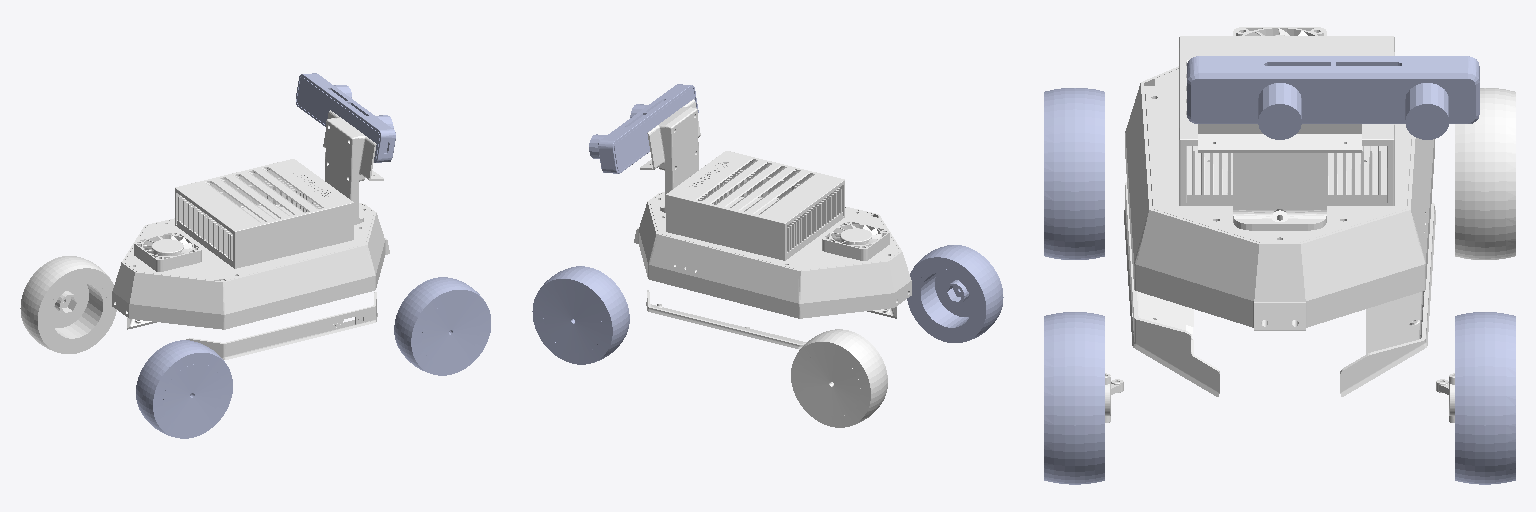
URDF robot description (description):
<?xml version="1.0" encoding="utf-8"?>
<!-- This URDF was automatically created by SolidWorks to URDF Exporter! Originally created by [author] ([email redacted]) 
     Commit Version: 1.6.0-4-g7f85cfe  Build Version: 1.6.7995.38578
     For more information, please see http://wiki.ros.org/sw_urdf_exporter -->
<robot
  name="description">
  <link
    name="base_link">
    <inertial>
      <origin
        xyz="0.012686 0.00022604 0.057416"
        rpy="0 0 0" />
      <mass
        value="2.587" />
      <inertia
        ixx="0.00035704"
        ixy="-4.5008E-07"
        ixz="-8.2245E-06"
        iyy="0.00081118"
        iyz="-1.0048E-06"
        izz="0.0010817" />
    </inertial>
    <visual>
      <origin
        xyz="0 0 0"
        rpy="0 0 0" />
      <geometry>
        <mesh
          filename="package://description/meshes/base_link.STL" />
      </geometry>
      <material
        name="">
        <color
          rgba="1 1 1 1" />
      </material>
    </visual>
    <collision>
      <origin
        xyz="0 0 0"
        rpy="0 0 0" />
      <geometry>
        <mesh
          filename="package://description/meshes/base_link.STL" />
      </geometry>
    </collision>
  </link>
  <link
    name="camera">
    <inertial>
      <origin
        xyz="0.0096454 -0.024245 7.5091E-06"
        rpy="0 0 0" />
      <mass
        value="0.0629" />
      <inertia
        ixx="7.2944E-05"
        ixy="9.8132E-07"
        ixz="9.1261E-10"
        iyy="5.5471E-06"
        iyz="-6.0108E-10"
        izz="7.2837E-05" />
    </inertial>
    <visual>
      <origin
        xyz="0 0 0"
        rpy="0 0 0" />
      <geometry>
        <mesh
          filename="package://description/meshes/camera.STL" />
      </geometry>
      <material
        name="">
        <color
          rgba="0.79216 0.81961 0.93333 1" />
      </material>
    </visual>
    <collision>
      <origin
        xyz="0 0 0"
        rpy="0 0 0" />
      <geometry>
        <mesh
          filename="package://description/meshes/camera.STL" />
      </geometry>
    </collision>
  </link>
  <joint
    name="camera"
    type="fixed">
    <origin
      xyz="0.08371 0.02275 0.12325"
      rpy="0 0.17453 0" />
    <parent
      link="base_link" />
    <child
      link="camera" />
    <axis
      xyz="0 0 0" />
  </joint>
  <link
    name="steering_f_r">
    <inertial>
      <origin
        xyz="-0.0026667 -0.0012862 1.2842E-08"
        rpy="0 0 0" />
      <mass
        value="0.004" />
      <inertia
        ixx="3.0117E-08"
        ixy="1.0965E-08"
        ixz="2.5868E-13"
        iyy="5.6537E-08"
        iyz="1.4459E-14"
        izz="4.808E-08" />
    </inertial>
    <visual>
      <origin
        xyz="0 0 0"
        rpy="0 0 0" />
      <geometry>
        <mesh
          filename="package://description/meshes/steering_f_r.STL" />
      </geometry>
      <material
        name="">
        <color
          rgba="1 1 1 1" />
      </material>
    </visual>
    <collision>
      <origin
        xyz="0 0 0"
        rpy="0 0 0" />
      <geometry>
        <mesh
          filename="package://description/meshes/steering_f_r.STL" />
      </geometry>
    </collision>
  </link>
  <joint
    name="j_steering_f_r"
    type="revolute">
    <origin
      xyz="0.1135 -0.07475 0"
      rpy="0 -0.087266 0" />
    <parent
      link="base_link" />
    <child
      link="steering_f_r" />
    <axis
      xyz="0 0 -1" />
    <limit
      lower="-1"
      upper="1"
      effort="0"
      velocity="0" />
  </joint>
  <link
    name="tire_f_r">
    <inertial>
      <origin
        xyz="0 -0.013779 1.3878E-17"
        rpy="0 0 0" />
      <mass
        value="0.042" />
      <inertia
        ixx="4.0273E-05"
        ixy="-3.471E-21"
        ixz="1.0299E-24"
        iyy="7.1503E-05"
        iyz="-9.6922E-25"
        izz="4.0273E-05" />
    </inertial>
    <visual>
      <origin
        xyz="0 0 0"
        rpy="0 0 0" />
      <geometry>
        <mesh
          filename="package://description/meshes/tire_f_r.STL" />
      </geometry>
      <material
        name="">
        <color
          rgba="0.79216 0.81961 0.93333 1" />
      </material>
    </visual>
    <collision>
      <origin
        xyz="0 0 0"
        rpy="0 0 0" />
      <geometry>
        <mesh
          filename="package://description/meshes/tire_f_r.STL" />
      </geometry>
    </collision>
  </link>
  <joint
    name="j_tire_f_r"
    type="continuous">
    <origin
      xyz="0 0 0"
      rpy="0 0.087266 0" />
    <parent
      link="steering_f_r" />
    <child
      link="tire_f_r" />
    <axis
      xyz="0 1 0" />
  </joint>
  <link
    name="tire_r_r">
    <inertial>
      <origin
        xyz="4.1633E-17 -0.013779 0"
        rpy="0 0 0" />
      <mass
        value="0.042" />
      <inertia
        ixx="4.0273E-05"
        ixy="1.0943E-21"
        ixz="8.5685E-25"
        iyy="7.1503E-05"
        iyz="3.5125E-25"
        izz="4.0273E-05" />
    </inertial>
    <visual>
      <origin
        xyz="0 0 0"
        rpy="0 0 0" />
      <geometry>
        <mesh
          filename="package://description/meshes/tire_r_r.STL" />
      </geometry>
      <material
        name="">
        <color
          rgba="0.79216 0.81961 0.93333 1" />
      </material>
    </visual>
    <collision>
      <origin
        xyz="0 0 0"
        rpy="0 0 0" />
      <geometry>
        <mesh
          filename="package://description/meshes/tire_r_r.STL" />
      </geometry>
    </collision>
  </link>
  <joint
    name="j_tire_r_r"
    type="continuous">
    <origin
      xyz="-0.1135 -0.07475 0"
      rpy="0 0 0" />
    <parent
      link="base_link" />
    <child
      link="tire_r_r" />
    <axis
      xyz="0 1 0" />
  </joint>
  <link
    name="steering_f_l">
    <inertial>
      <origin
        xyz="-0.0026667 0.0012862 -6.1313E-08"
        rpy="0 0 0" />
      <mass
        value="0.004" />
      <inertia
        ixx="3.0116E-08"
        ixy="-1.0965E-08"
        ixz="-1.6671E-13"
        iyy="5.6537E-08"
        iyz="-1.3855E-13"
        izz="4.808E-08" />
    </inertial>
    <visual>
      <origin
        xyz="0 0 0"
        rpy="0 0 0" />
      <geometry>
        <mesh
          filename="package://description/meshes/steering_f_l.STL" />
      </geometry>
      <material
        name="">
        <color
          rgba="1 1 1 1" />
      </material>
    </visual>
    <collision>
      <origin
        xyz="0 0 0"
        rpy="0 0 0" />
      <geometry>
        <mesh
          filename="package://description/meshes/steering_f_l.STL" />
      </geometry>
    </collision>
  </link>
  <joint
    name="j_steering_f_l"
    type="revolute">
    <origin
      xyz="0.1135 0.07475 0"
      rpy="0 -0.087266 0" />
    <parent
      link="base_link" />
    <child
      link="steering_f_l" />
    <axis
      xyz="0 0 -1" />
    <limit
      lower="-1"
      upper="1"
      effort="0"
      velocity="0" />
  </joint>
  <link
    name="tire_f_l">
    <inertial>
      <origin
        xyz="-1.3878E-17 0.013779 0"
        rpy="0 0 0" />
      <mass
        value="0.042" />
      <inertia
        ixx="4.0273E-05"
        ixy="-6.6471E-21"
        ixz="8.2395E-25"
        iyy="7.1503E-05"
        iyz="-2.0305E-22"
        izz="4.0273E-05" />
    </inertial>
    <visual>
      <origin
        xyz="0 0 0"
        rpy="0 0 0" />
      <geometry>
        <mesh
          filename="package://description/meshes/tire_f_l.STL" />
      </geometry>
      <material
        name="">
        <color
          rgba="0.79216 0.81961 0.93333 1" />
      </material>
    </visual>
    <collision>
      <origin
        xyz="0 0 0"
        rpy="0 0 0" />
      <geometry>
        <mesh
          filename="package://description/meshes/tire_f_l.STL" />
      </geometry>
    </collision>
  </link>
  <joint
    name="j_tire_f_l"
    type="continuous">
    <origin
      xyz="0 0 0"
      rpy="0 0.087266 0" />
    <parent
      link="steering_f_l" />
    <child
      link="tire_f_l" />
    <axis
      xyz="0 1 0" />
  </joint>
  <link
    name="tire_r_l">
    <inertial>
      <origin
        xyz="0.012686 0.00022604 0.057416"
        rpy="0 0 0" />
      <mass
        value="0.042" />
      <inertia
        ixx="0.00035704"
        ixy="-4.5008E-07"
        ixz="-8.2245E-06"
        iyy="0.00081118"
        iyz="-1.0048E-06"
        izz="0.0010817" />
    </inertial>
    <visual>
      <origin
        xyz="0 0 0"
        rpy="0 0 0" />
      <geometry>
        <mesh
          filename="package://description/meshes/tire_r_l.STL" />
      </geometry>
      <material
        name="">
        <color
          rgba="1 1 1 1" />
      </material>
    </visual>
    <collision>
      <origin
        xyz="0 0 0"
        rpy="0 0 0" />
      <geometry>
        <mesh
          filename="package://description/meshes/tire_r_l.STL" />
      </geometry>
    </collision>
  </link>
  <joint
    name="j_tire_r_l"
    type="continuous">
    <origin
      xyz="-0.1135 0.07475 0"
      rpy="0 0 0" />
    <parent
      link="base_link" />
    <child
      link="tire_r_l" />
    <axis
      xyz="0 1 0" />
  </joint>
</robot>

--- Facts derived from the render (not from the file) ---
Views: 3 orthographic renders of the robot side by side, from view 1: azimuth 30°, elevation 25°; view 2: azimuth 150°, elevation 25°; view 3: azimuth 270°, elevation 25°.
Model description with 8 links and 7 joints (2 revolute, 4 continuous, 1 fixed), rooted at base_link, posed all joints at 0.
Links seen in each view (by area): view 1: base_link, tire_r_r, tire_f_r, tire_r_l, camera; view 2: base_link, tire_r_l, tire_f_l, tire_r_r, camera; view 3: base_link, camera, tire_f_r, tire_f_l, tire_r_r, tire_r_l.
Link boxes in pixels (left/top/right/bottom): base_link: left=112, top=110, right=389, bottom=359; tire_r_r: left=136, top=340, right=232, bottom=438; tire_f_r: left=394, top=277, right=490, bottom=375; tire_r_l: left=20, top=256, right=116, bottom=353; camera: left=296, top=73, right=395, bottom=162; base_link: left=634, top=99, right=911, bottom=349; tire_r_l: left=791, top=329, right=887, bottom=427; tire_f_l: left=532, top=266, right=629, bottom=364; tire_r_r: left=907, top=245, right=1003, bottom=342; camera: left=589, top=84, right=698, bottom=173; base_link: left=1124, top=27, right=1435, bottom=396; camera: left=1187, top=56, right=1479, bottom=139; tire_f_r: left=1044, top=312, right=1104, bottom=484; tire_f_l: left=1455, top=312, right=1515, bottom=484; tire_r_r: left=1044, top=88, right=1104, bottom=259; tire_r_l: left=1455, top=88, right=1515, bottom=259.
Bounding box of the posed robot: 0.301 × 0.2015 × 0.1865 m (x, y, z).
8 mesh visuals loaded from 8 distinct referenced files (8 binary STL).
